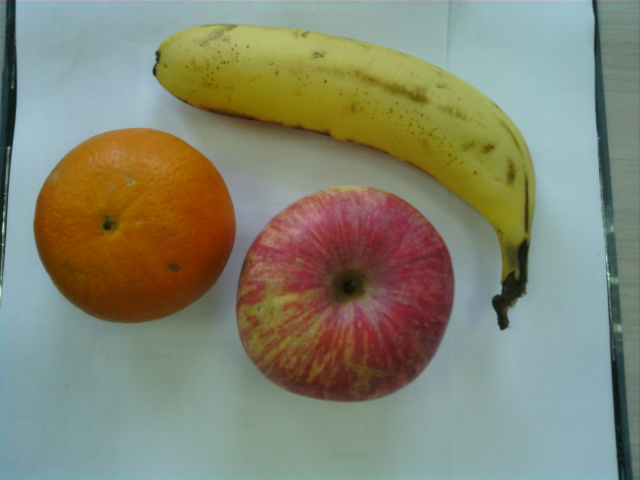normal_apple: (235, 184, 453, 404)
normal_banana: (153, 21, 536, 240)
normal_orange: (34, 126, 237, 326)
